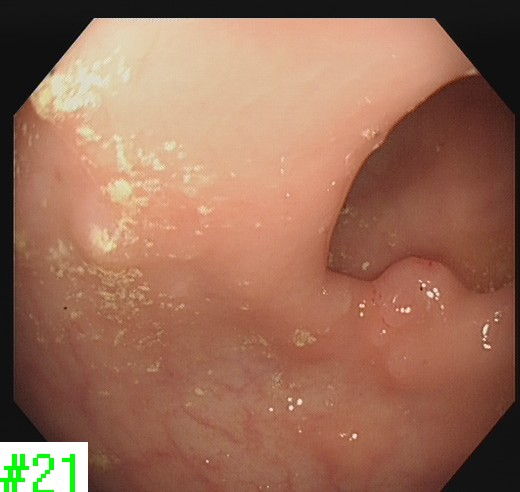others: (371, 252, 469, 332)
